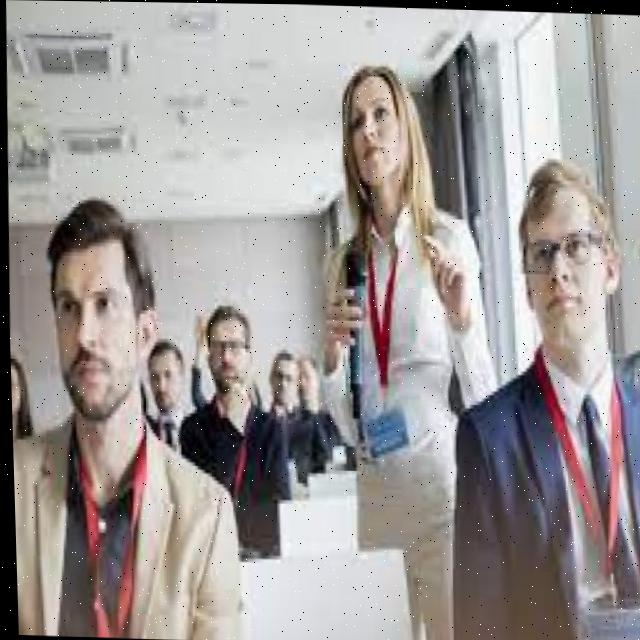id_card: (517, 340, 640, 640), (61, 433, 144, 637), (345, 218, 414, 459)
